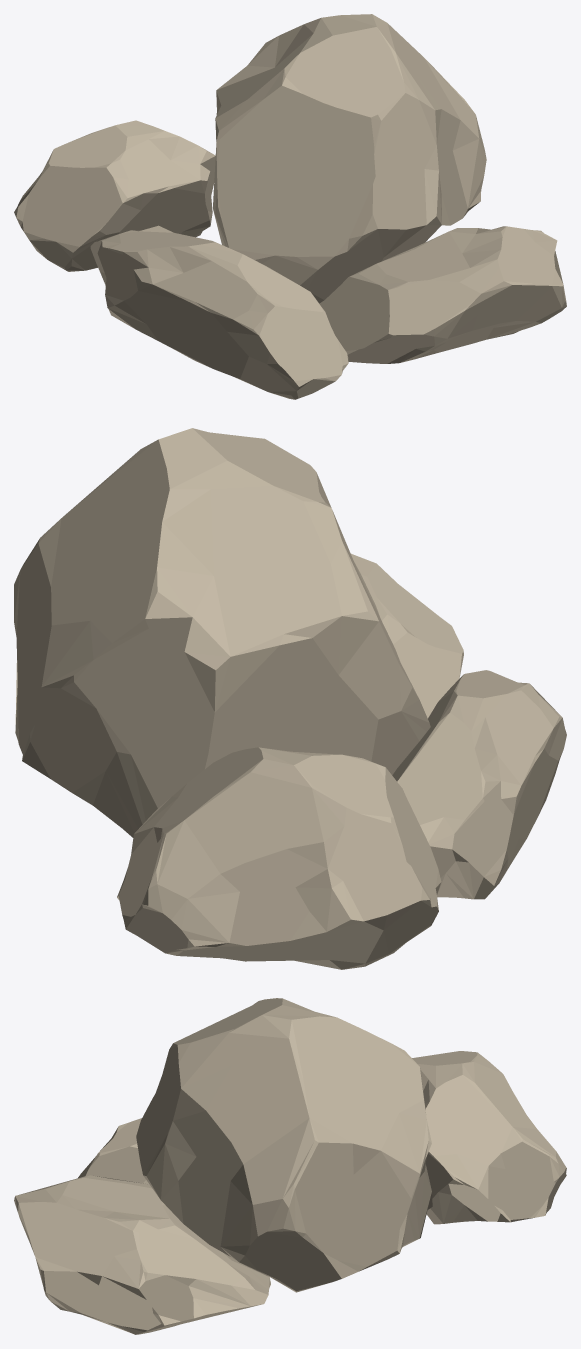
Rendered from kamien_zespol.fbx.
The picture shows the model from 3 angles, top to bottom: view 1: azimuth 30°, elevation 25°; view 2: azimuth 150°, elevation 25°; view 3: azimuth 270°, elevation 25°; orthographic projection. The views are drawn at different scales.
Visible parts, largest first — view 1: Cube; view 2: Cube; view 3: Cube.
Boxes of the visible parts, left/top/right/bottom form: Cube: left=14, top=14, right=566, bottom=399; Cube: left=14, top=428, right=566, bottom=969; Cube: left=14, top=998, right=566, bottom=1334.
Size of the model in its own units: 1279 by 875 by 1468.
